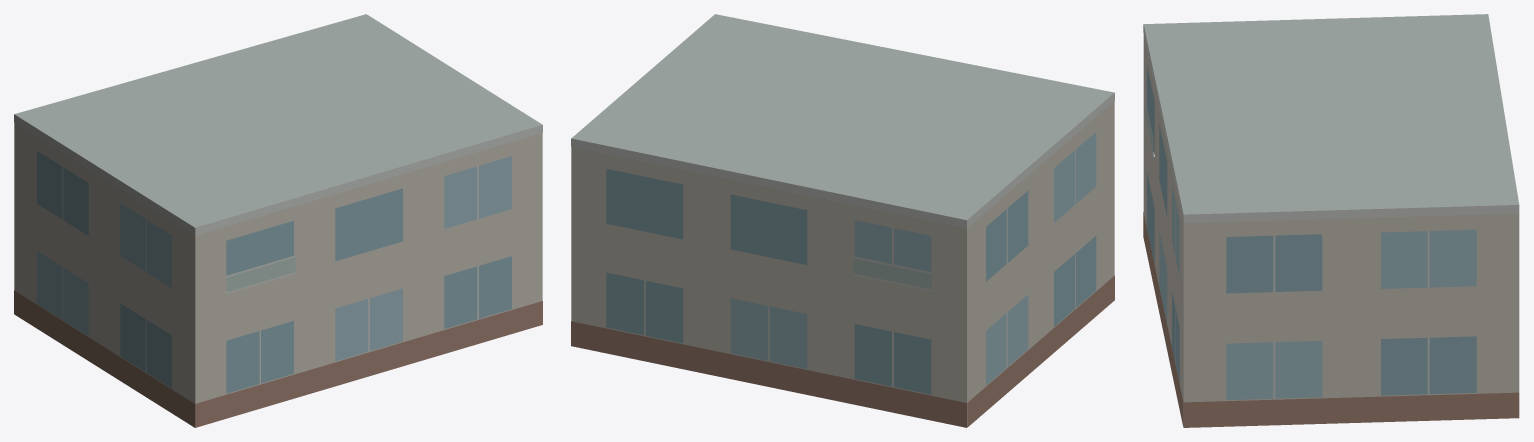
Rendered from survey-upis-32699923.glb.
3 renders of one model, left to right at view 1: azimuth 30°, elevation 25°; view 2: azimuth 150°, elevation 25°; view 3: azimuth 270°, elevation 25°, orthographic. The views are drawn at different scales.
Visible parts, largest first — view 1: survey-upis-32699923.tmp; view 2: survey-upis-32699923.tmp; view 3: survey-upis-32699923.tmp.
Part boxes in pixels (x1,y1,x2,y2): survey-upis-32699923.tmp: (14, 14, 542, 427); survey-upis-32699923.tmp: (571, 14, 1114, 427); survey-upis-32699923.tmp: (1143, 14, 1519, 427).
Size of the model in its own units: 12.32 by 6.1 by 9.75.
